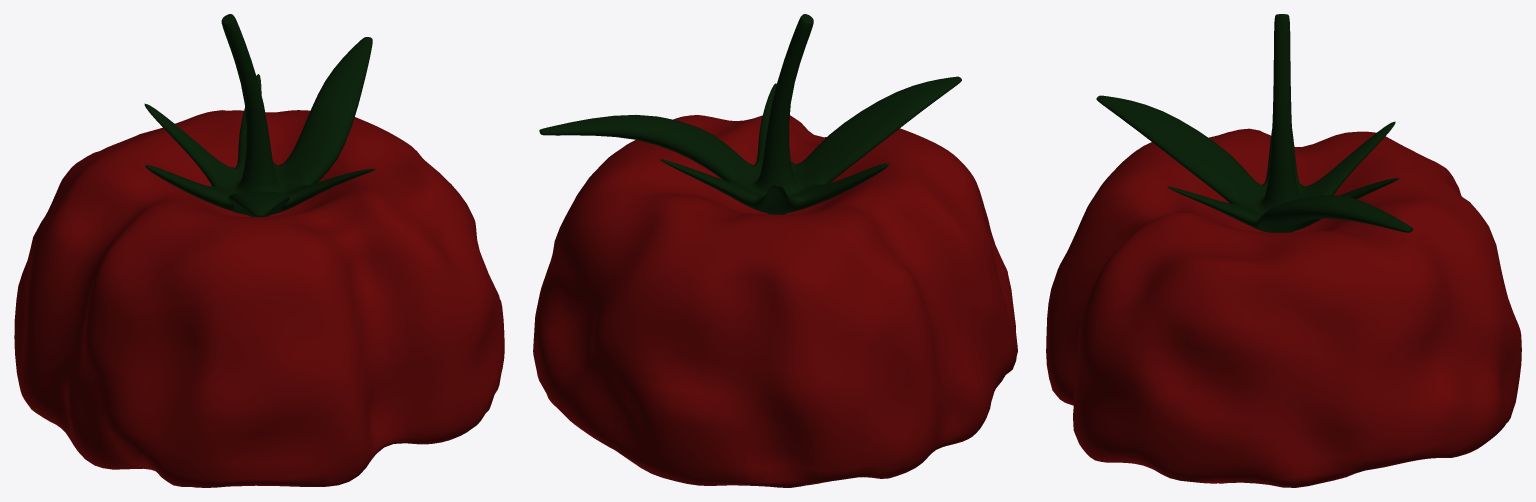
Rendered from HH_tomatoeSplattered02.fbx.
3 renders of one model, left to right at view 1: azimuth 30°, elevation 25°; view 2: azimuth 150°, elevation 25°; view 3: azimuth 270°, elevation 25°, orthographic.
Visible parts, largest first — view 1: Cube, Cylinder; view 2: Cube, Cylinder; view 3: Cube, Cylinder.
Boxes of the visible parts, x1,y1,x2,y2 form: Cube: [14, 110, 504, 487]; Cylinder: [144, 14, 375, 217]; Cube: [533, 115, 1017, 487]; Cylinder: [539, 14, 961, 214]; Cube: [1046, 128, 1521, 487]; Cylinder: [1096, 14, 1413, 232].
Bounding box in the file's own units: 1.31 × 1.24 × 1.34.
